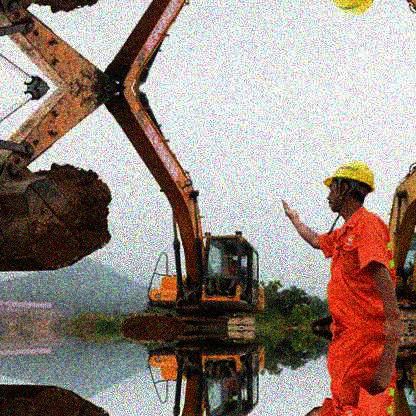helmet: (324, 163, 377, 219)
